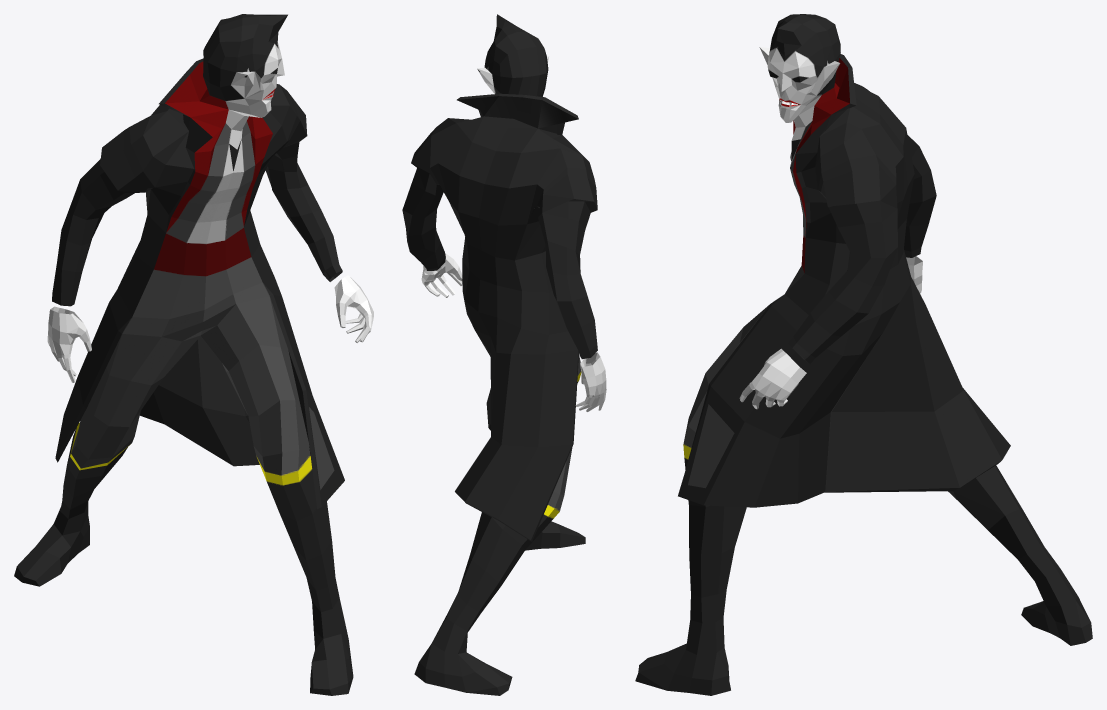
Rendered from VampireIdle(24).obj.
The picture shows the model from 3 angles, left to right: view 1: azimuth 30°, elevation 25°; view 2: azimuth 150°, elevation 25°; view 3: azimuth 270°, elevation 25°; orthographic projection. The views are drawn at different scales.
Parts seen in each view (by area): view 1: Plane002; view 2: Plane002; view 3: Plane002.
Part boxes in pixels (box(x1,y1,x2,y2)): Plane002: box(14, 14, 373, 695); Plane002: box(402, 14, 606, 695); Plane002: box(635, 14, 1092, 695).
Bounding box in the file's own units: 131 × 306 × 193.
